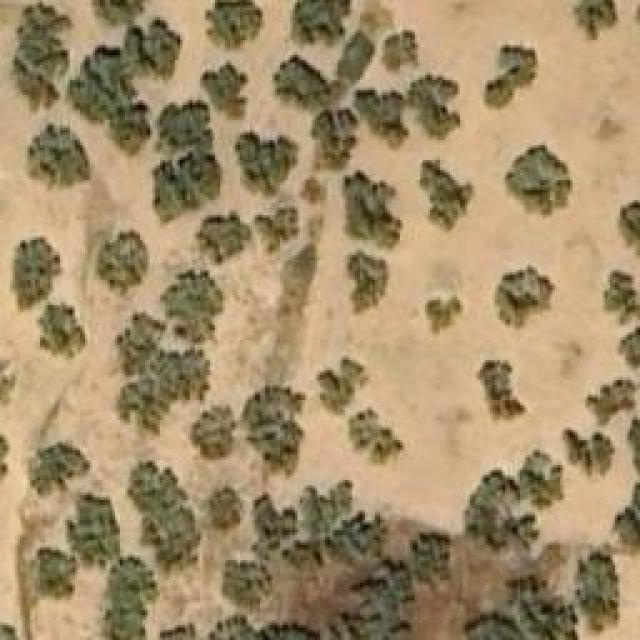Tree: (118, 315, 211, 438), (128, 460, 201, 575), (243, 385, 306, 483), (465, 475, 538, 553), (63, 48, 133, 121), (505, 143, 573, 218), (160, 270, 223, 343), (148, 153, 218, 218), (8, 237, 63, 315), (28, 123, 91, 188), (235, 133, 300, 196), (493, 265, 556, 330), (418, 158, 473, 231), (483, 42, 538, 110), (272, 55, 340, 110), (345, 173, 395, 246), (15, 0, 70, 65), (347, 405, 405, 465), (28, 443, 91, 498), (95, 233, 148, 298), (478, 360, 528, 428), (572, 563, 620, 633), (70, 498, 120, 563), (195, 210, 253, 265), (560, 427, 615, 485), (318, 357, 371, 415), (253, 492, 298, 560), (205, 0, 262, 52), (158, 98, 213, 151), (517, 450, 565, 510), (128, 23, 181, 76), (345, 253, 388, 318), (223, 560, 273, 613), (585, 378, 638, 428), (28, 548, 81, 598), (37, 303, 85, 358), (202, 65, 250, 120), (193, 402, 238, 460), (313, 110, 358, 168), (415, 80, 463, 133), (335, 513, 388, 558), (292, 0, 350, 40), (355, 90, 403, 138), (105, 105, 148, 155), (602, 270, 640, 325), (255, 207, 298, 255), (410, 538, 450, 588), (573, 0, 618, 40), (380, 30, 418, 75), (90, 0, 145, 30), (425, 297, 463, 335), (208, 488, 243, 528), (617, 200, 640, 257), (465, 617, 522, 640), (283, 540, 323, 570), (210, 617, 257, 640), (0, 622, 22, 639)
